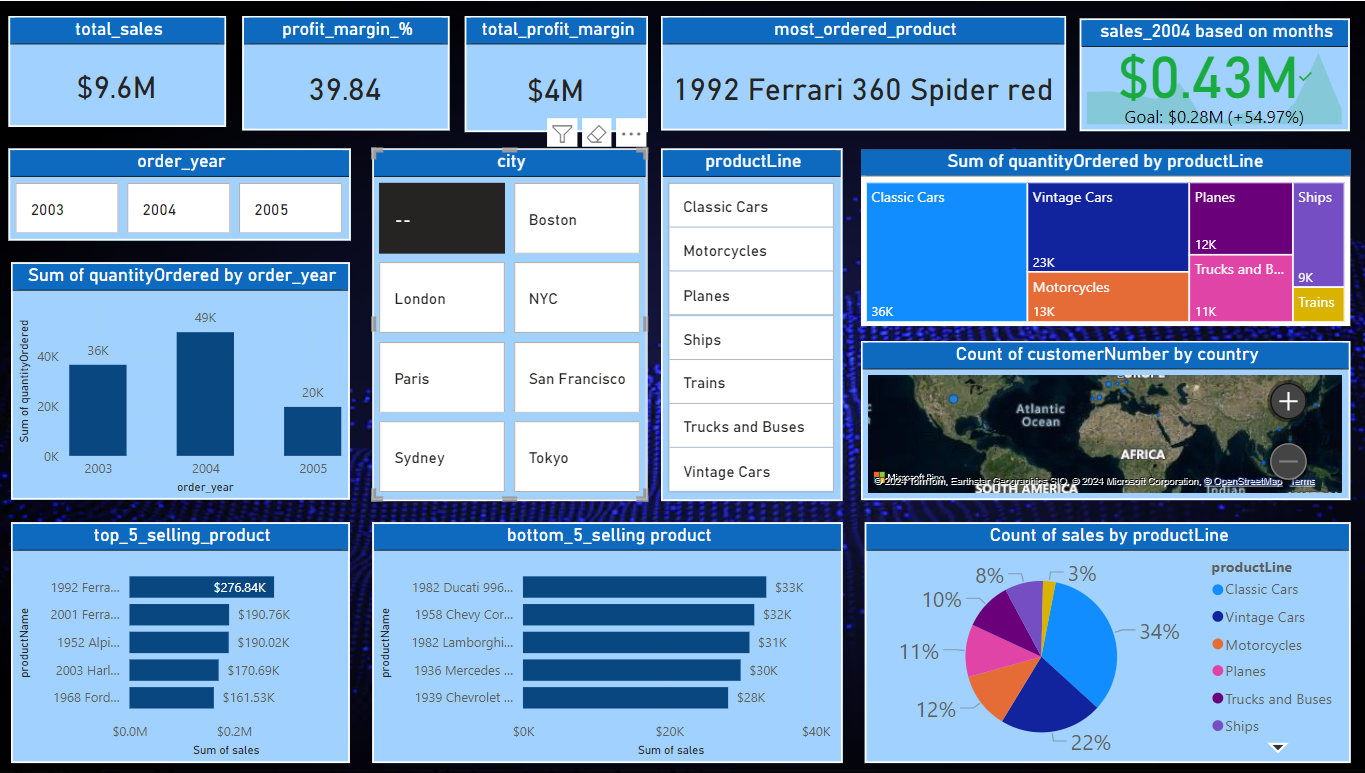

The dashboard page shown, as its layout file describes it:
{"tool":"powerbi","page":{"name":"Page 1","canvas":[1280,720],"ordinal":0},"visuals":[{"type":"card","title":"total_profit_margin","fields":{"Values":["order details.total_profit"]},"box":[435.8,14.3,170.2,108.2],"z":0},{"type":"card","title":"most_ordered_product","fields":{"Values":["order details.MostOrderedProduct"]},"box":[618.7,14.3,377,106.6],"z":1000},{"type":"barChart","title":"top_5_selling_product","fields":{"Category":["products.productName"],"Y":["Sum(order details.sales)"]},"box":[14.3,485.1,314.9,224.3],"z":2000},{"type":"pieChart","fields":{"Category":["products.productLine"],"Y":["Sum(order details.sales)"]},"box":[808,485.1,451.7,224.3],"z":3000},{"type":"advancedSlicerVisual","fields":{"Values":["orders.order_year"]},"box":[11.1,136.8,318.1,85.9],"z":4000},{"type":"kpi","title":"sales_2004 based on months","fields":{"Goal":["orders.sales_2004"],"TrendLine":["orders.Month Name"],"Indicator":["orders.sales_2003"]},"box":[1008.4,15.9,251.3,105],"z":5000},{"type":"map","fields":{"Size":["CountNonNull(customers.customerNumber)"],"Category":["customers.country"]},"box":[804.8,316.5,454.9,147.9],"z":6000},{"type":"treemap","fields":{"Group":["product lines.productLine"],"Values":["Sum(order details.quantityOrdered)"]},"box":[804.8,138.4,454.9,163.8],"z":7000},{"type":"clusteredColumnChart","fields":{"Category":["orders.order_year"],"Y":["Sum(order details.quantityOrdered)"]},"box":[14.3,243.4,314.9,221.1],"z":8000},{"type":"card","title":"profit_margin_%","fields":{"Values":["classic model.profit_margin_%"]},"box":[229,14.3,192.5,106.6],"z":8001},{"type":"card","title":"total_sales","fields":{"Values":["Sum(order details.sales)"]},"box":[11.1,14.3,202,103.4],"z":8002},{"type":"advancedSlicerVisual","fields":{"Values":["office.city"]},"box":[349.9,136.8,256.1,327.7],"z":8003},{"type":"advancedSlicerVisual","fields":{"Values":["product lines.productLine"]},"box":[618.7,136.8,168.6,327.7],"z":8004},{"type":"barChart","title":"bottom_5_selling product","fields":{"Category":["products.productName"],"Y":["Sum(order details.sales)"]},"box":[349.9,485.1,437.4,224.3],"z":8005}]}

Visuals, with their boxes in screenshot pixels (x1, y1, x2, y2), scaled from the page's 1280x720 canvas onto the 1365x773 screenshot:
"total_profit_margin" card: detection(465, 15, 646, 132)
"most_ordered_product" card: detection(660, 15, 1062, 130)
"top_5_selling_product" barChart: detection(15, 521, 351, 762)
pieChart - products.productLine x Sum(order details.sales): detection(862, 521, 1343, 762)
advancedSlicerVisual - orders.order_year: detection(12, 147, 351, 239)
"sales_2004 based on months" kpi: detection(1075, 17, 1343, 130)
map - CountNonNull(customers.customerNumber) x customers.country: detection(858, 340, 1343, 499)
treemap - product lines.productLine x Sum(order details.quantityOrdered): detection(858, 149, 1343, 324)
clusteredColumnChart - orders.order_year x Sum(order details.quantityOrdered): detection(15, 261, 351, 499)
"profit_margin_%" card: detection(244, 15, 449, 130)
"total_sales" card: detection(12, 15, 227, 126)
advancedSlicerVisual - office.city: detection(373, 147, 646, 499)
advancedSlicerVisual - product lines.productLine: detection(660, 147, 840, 499)
"bottom_5_selling product" barChart: detection(373, 521, 840, 762)
